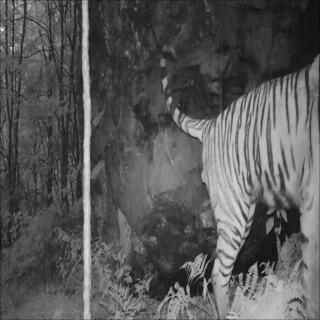Tiger: (159, 43, 320, 299)
